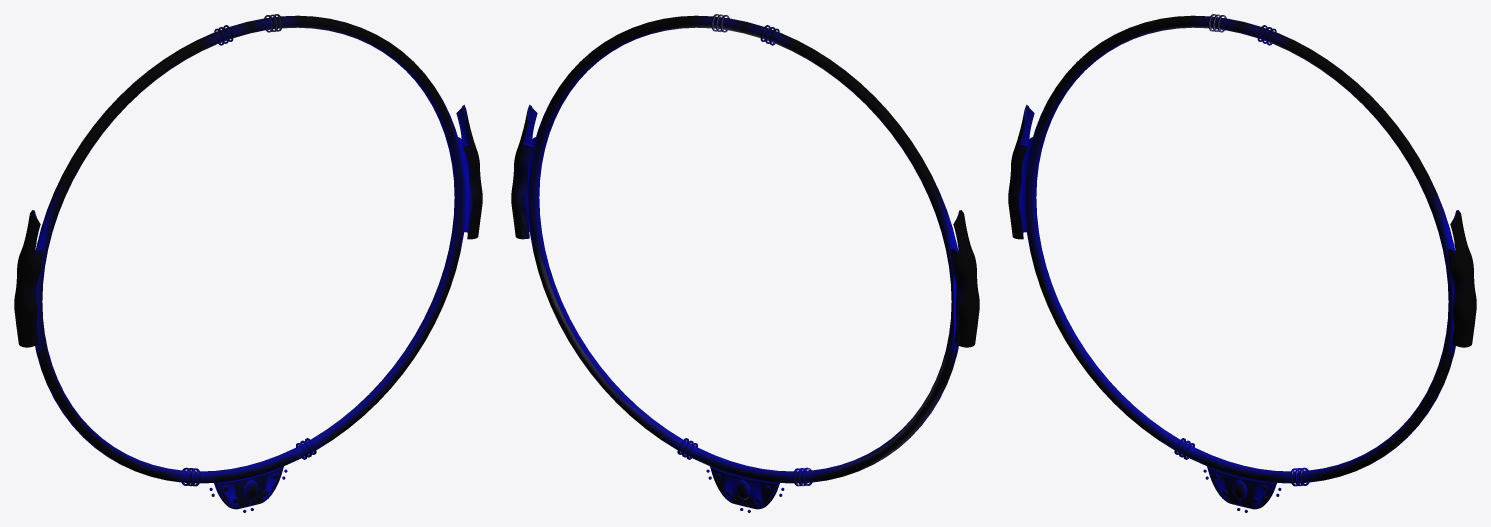
Rendered from ff_gateway_01.fbx.
The picture shows the model from 3 angles, left to right: view 1: azimuth 30°, elevation 25°; view 2: azimuth 150°, elevation 25°; view 3: azimuth 330°, elevation 25°; orthographic projection.
Visible parts, largest first — view 1: ff_gateway_01; view 2: ff_gateway_01; view 3: ff_gateway_01.
Boxes of the visible parts, x1,y1,x2,y2 form: ff_gateway_01: [14, 14, 482, 512]; ff_gateway_01: [511, 14, 979, 512]; ff_gateway_01: [1008, 14, 1476, 512].
Size of the model in its own units: 2657 by 2692 by 146.
